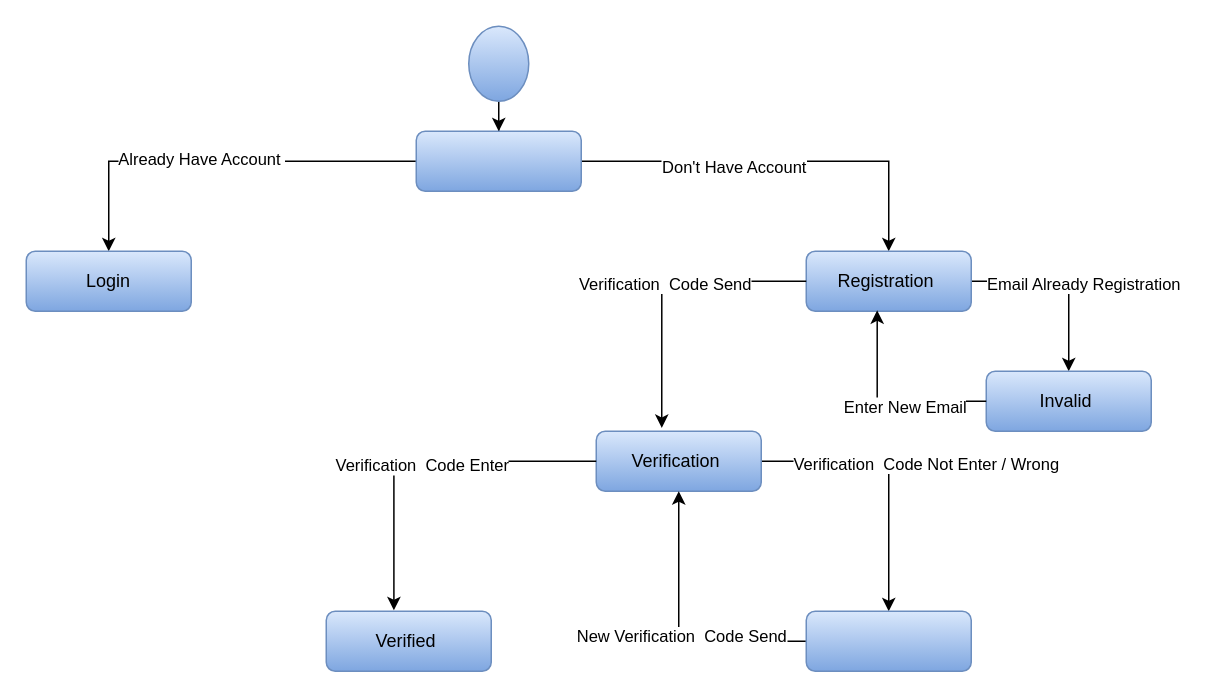
The diagram is 1206 pixels wide and 698 high, and some of its shapes have lost their labels. Each missing label, with the box of its shape:
App Open: (415, 130, 581, 191)
Verification Failed: (805, 610, 971, 671)
